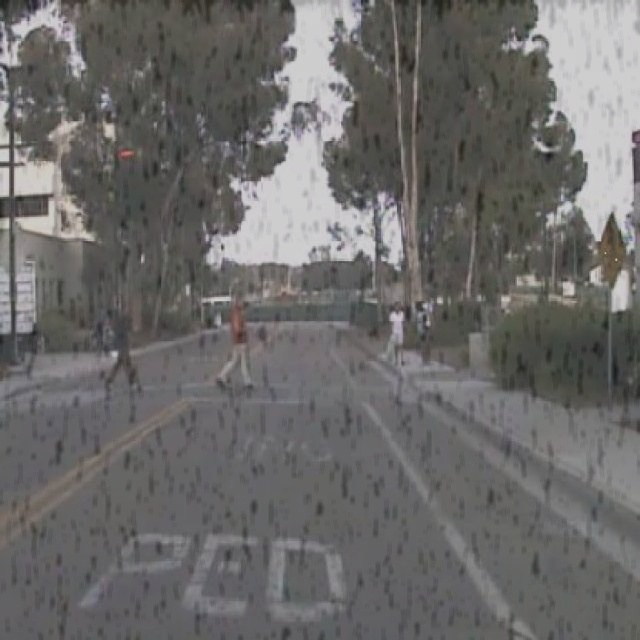pedestrianCrossing: (596, 211, 628, 288)
